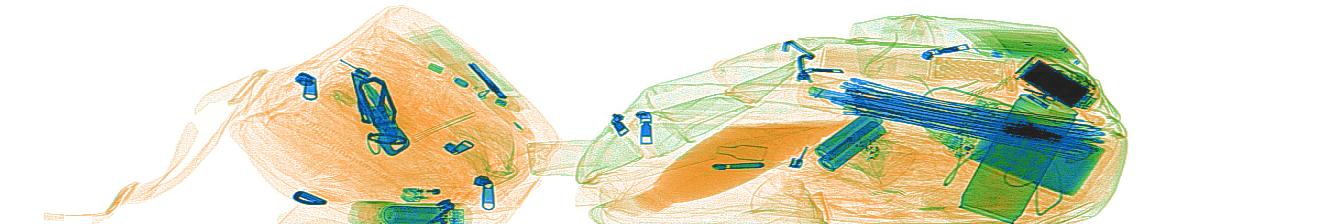battery: (814, 100, 886, 171), (382, 203, 451, 222)
lighter: (398, 185, 479, 208)
